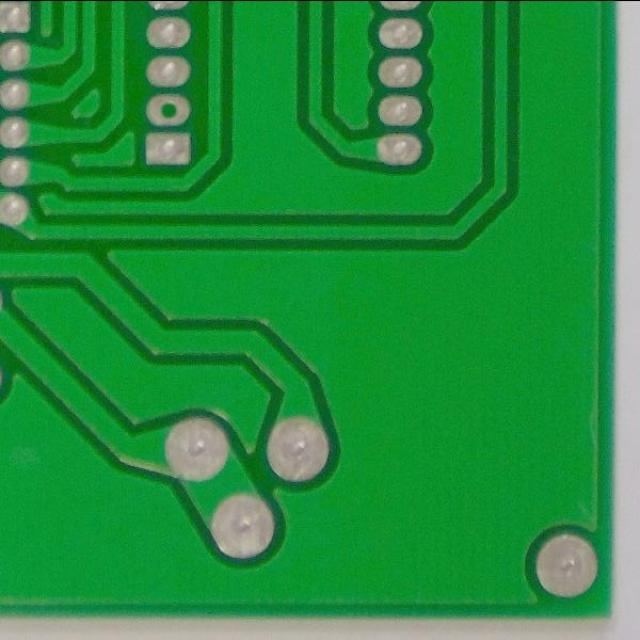missing_hole: (142, 86, 194, 129)
